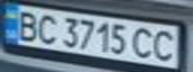1: (93, 19, 112, 53)
3: (57, 15, 81, 48)
5: (109, 21, 133, 56)
7: (75, 17, 96, 51)
B: (12, 7, 42, 42)
C: (148, 27, 181, 62), (130, 25, 160, 60), (33, 11, 60, 45)
